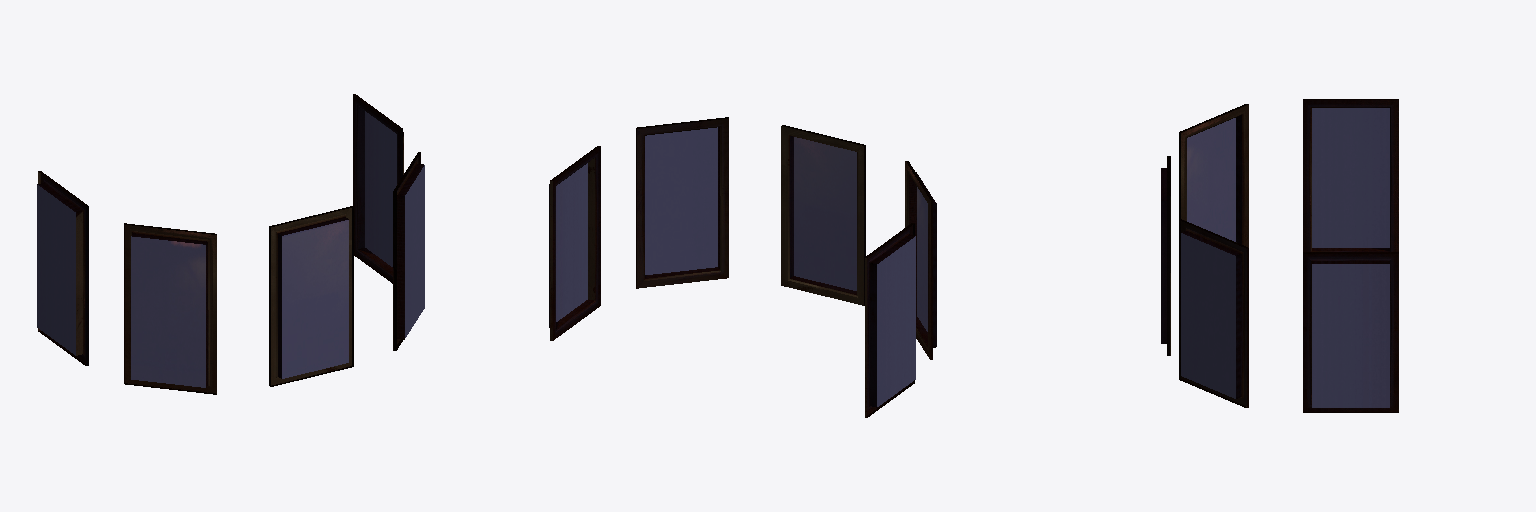
3 views of the same model, side by side, from view 1: azimuth 30°, elevation 25°; view 2: azimuth 150°, elevation 25°; view 3: azimuth 270°, elevation 25° (orthographic).
Parts seen in each view (by area): view 1: baywindows1 ExportGeo; view 2: baywindows1 ExportGeo; view 3: baywindows1 ExportGeo.
Boxes of the visible parts, x1,y1,x2,y2 form: baywindows1 ExportGeo: [37, 94, 424, 394]; baywindows1 ExportGeo: [549, 117, 936, 417]; baywindows1 ExportGeo: [1161, 99, 1398, 412].
Size of the model in its own units: 3.33 by 1.55 by 2.09.
1 materials, 1 textured.